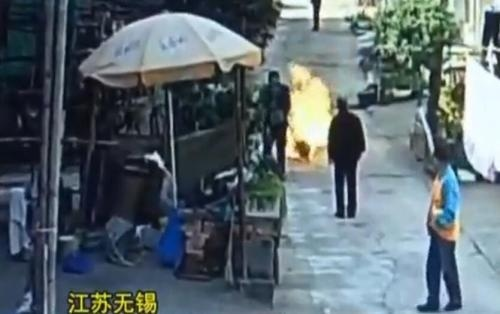fire: (284, 60, 335, 166)
